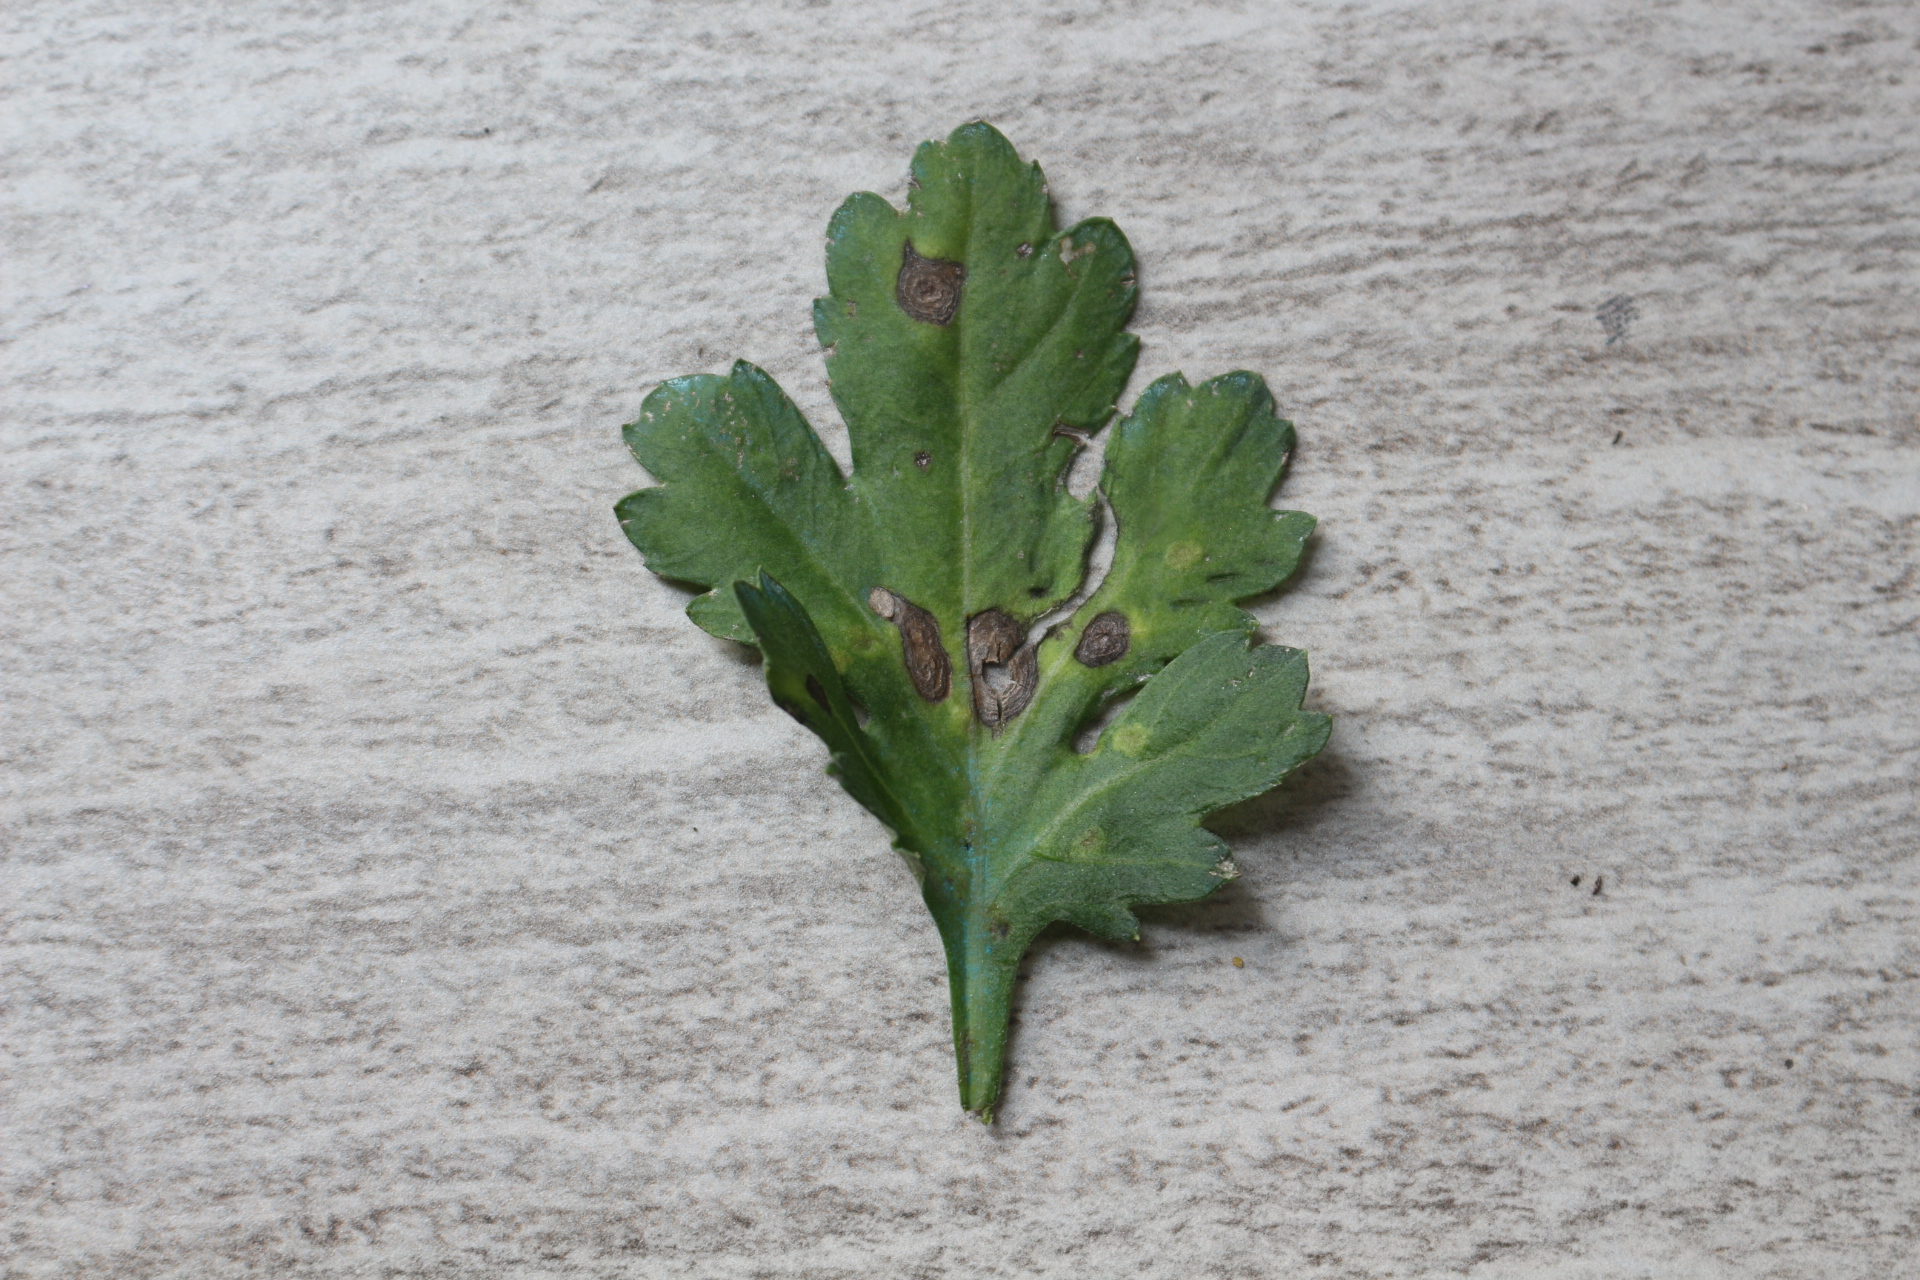namden: (886, 594, 954, 707), (896, 253, 970, 329), (1071, 607, 1133, 669)
namsung: (1150, 533, 1210, 571), (1101, 723, 1153, 761)
